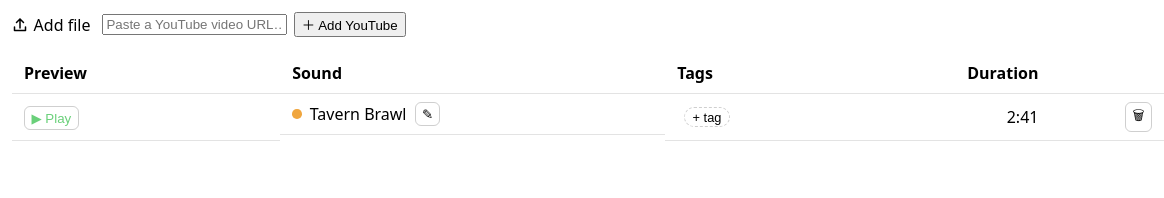
Test: a failed rename surfaces its error message on the page
The width and height of the screenshot is (1164, 198).
expect the text "Tavern Brawl" is shown: met, box [310,102,406,126]
Click the button named "rename" at (428, 114), box [414,102,440,126]
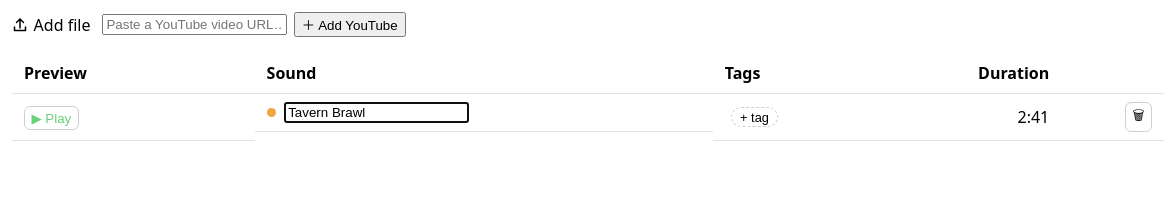
Replace the text in the field showing "Tavern Brawl" with "Something New" at (377, 112), box [284,102,469,123]
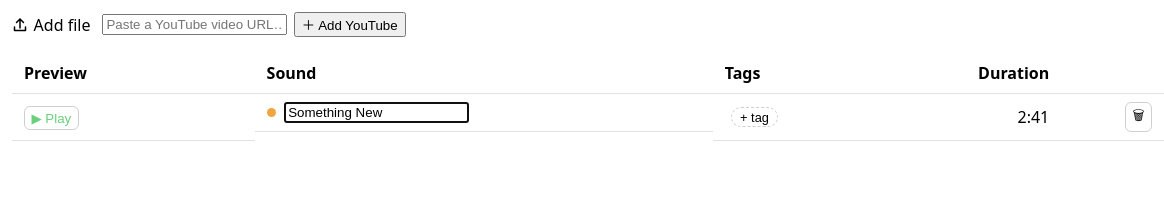
Press Enter in the field showing "Tavern Brawl", box [284,102,469,123]
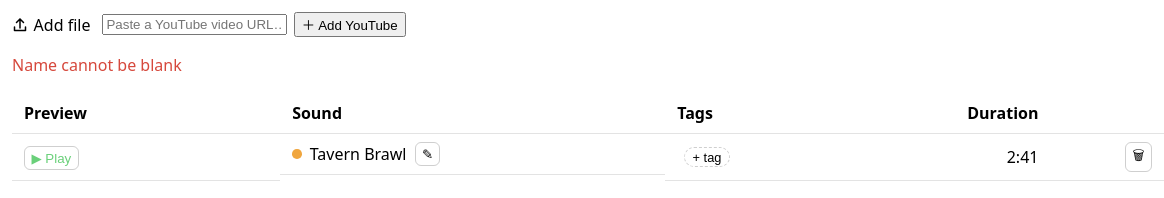
expect the text "Name cannot be blank" is shown: met, box [12,54,182,76]
